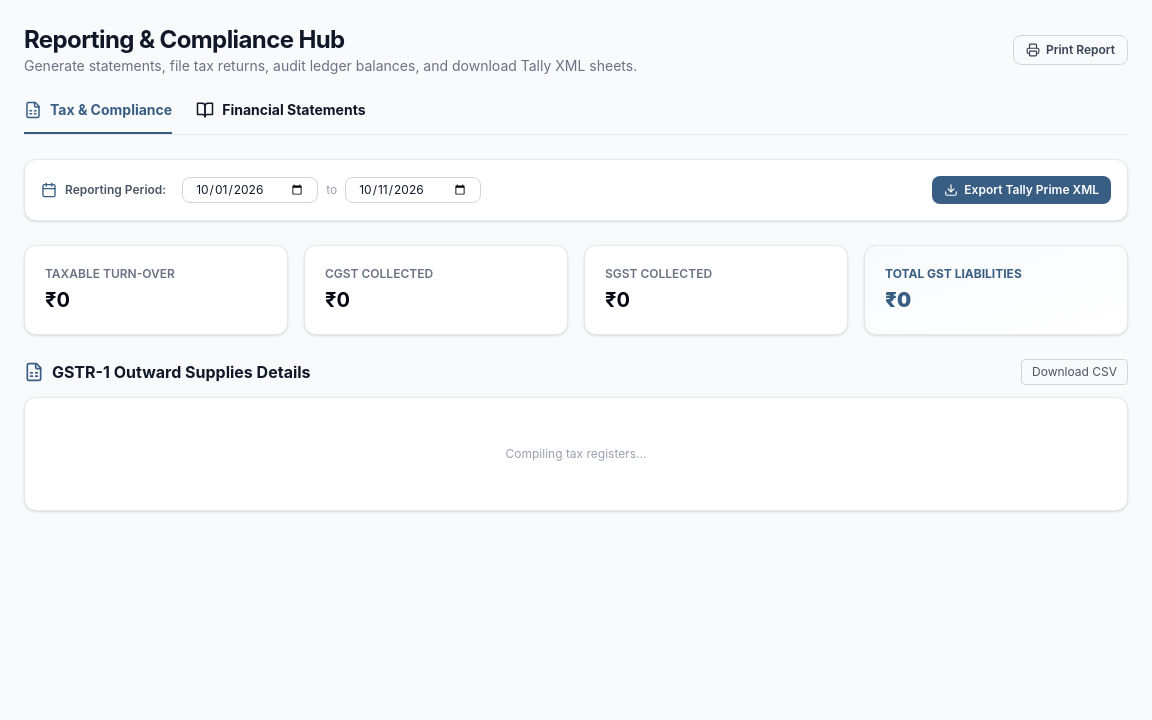
Test: shows ledger closing balances and retained earnings from the actual report contracts
The image size is (1152, 720).
Step 1. Click the button "Financial Statements" → (281, 117), box 196,100 -> 366,134
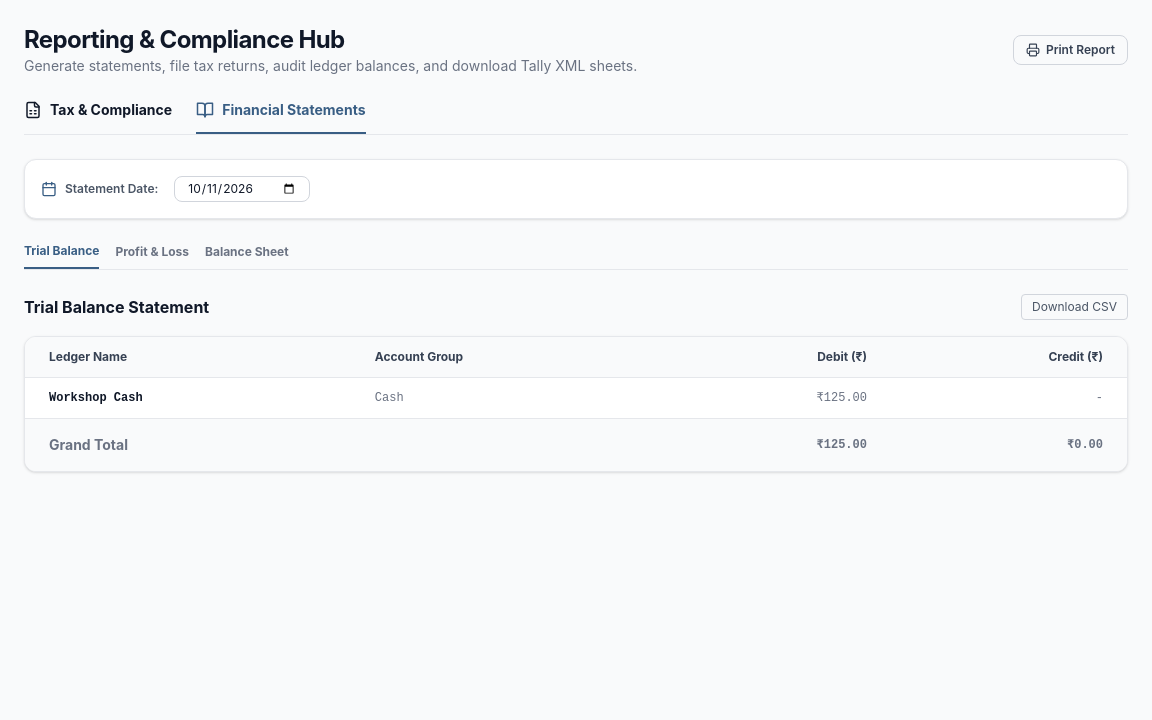
Check: the text "₹125.00" in the row of "Workshop Cash" is shown, box 816,391 -> 867,405
Step 2. Click the button "Balance Sheet" → (247, 256), box 205,243 -> 289,269
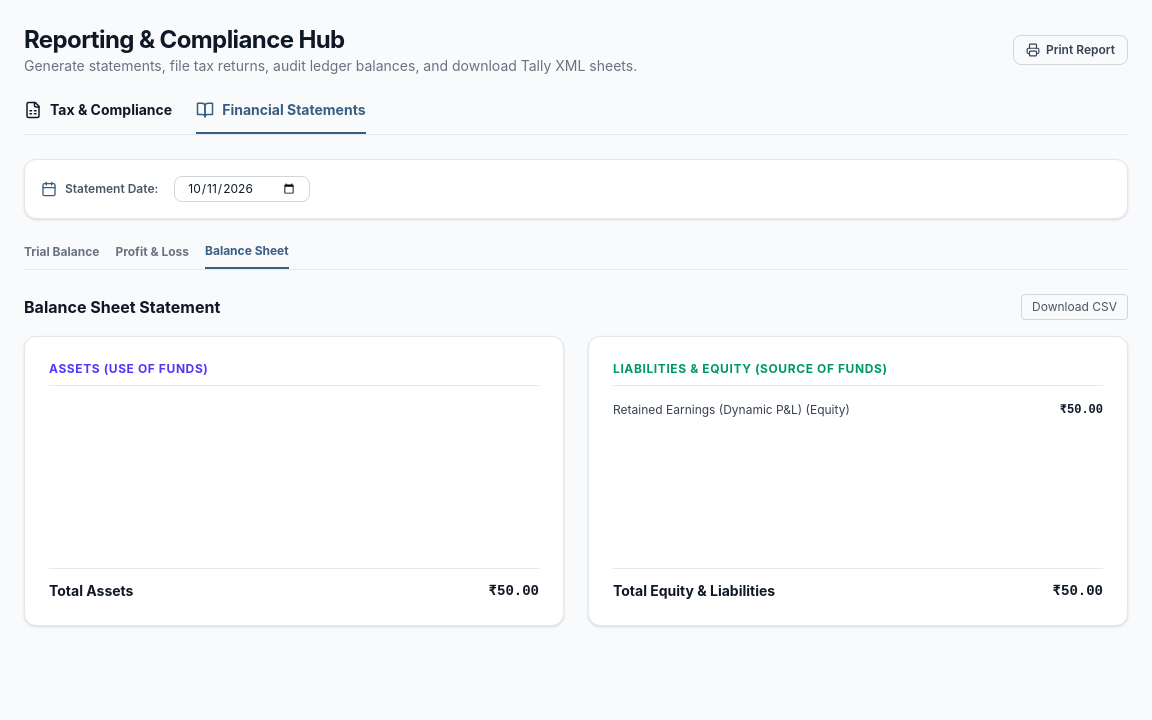
Check: the text "Retained Earnings (Dynamic P&L) (Equity)" is shown, box 613,402 -> 850,418
